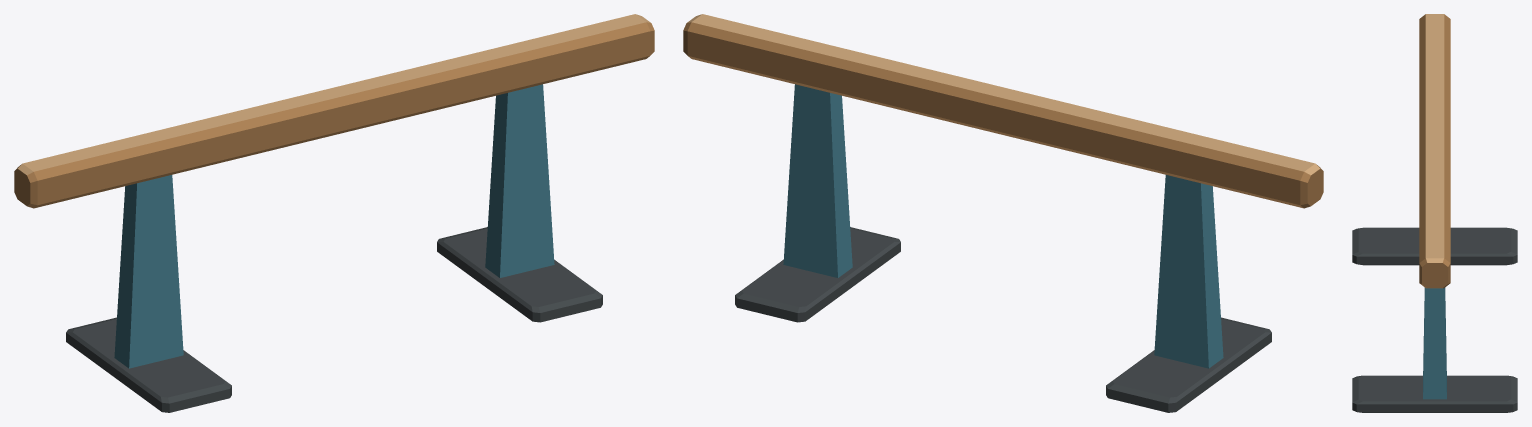
The picture shows the model from 3 angles, left to right: view 1: azimuth 30°, elevation 25°; view 2: azimuth 150°, elevation 25°; view 3: azimuth 270°, elevation 25°; orthographic projection. The views are drawn at different scales.
Parts seen in each view (by area): view 1: ContinuousOctagonalChamferEndedBeam, RightTaperedSupportColumn, LeftTaperedSupportColumn, LeftTransverseChamferFoot, RightTransverseChamferFoot; view 2: ContinuousOctagonalChamferEndedBeam, RightTaperedSupportColumn, LeftTaperedSupportColumn, LeftTransverseChamferFoot, RightTransverseChamferFoot; view 3: ContinuousOctagonalChamferEndedBeam, RightTransverseChamferFoot, LeftTransverseChamferFoot, RightTaperedSupportColumn.
Boxes of the visible parts, x1=… form: ContinuousOctagonalChamferEndedBeam: x1=14, y1=14, x2=654, y2=208; RightTaperedSupportColumn: x1=485, y1=84, x2=554, y2=277; LeftTaperedSupportColumn: x1=114, y1=175, x2=183, y2=368; LeftTransverseChamferFoot: x1=66, y1=317, x2=231, y2=412; RightTransverseChamferFoot: x1=437, y1=227, x2=602, y2=322; ContinuousOctagonalChamferEndedBeam: x1=683, y1=14, x2=1323, y2=208; RightTaperedSupportColumn: x1=783, y1=84, x2=852, y2=277; LeftTaperedSupportColumn: x1=1154, y1=175, x2=1223, y2=368; LeftTransverseChamferFoot: x1=1106, y1=317, x2=1271, y2=412; RightTransverseChamferFoot: x1=735, y1=227, x2=900, y2=322; ContinuousOctagonalChamferEndedBeam: x1=1419, y1=14, x2=1450, y2=288; RightTransverseChamferFoot: x1=1352, y1=375, x2=1517, y2=412; LeftTransverseChamferFoot: x1=1352, y1=227, x2=1517, y2=265; RightTaperedSupportColumn: x1=1423, y1=287, x2=1446, y2=399.
Size of the model in its own units: 3.2 by 1.14 by 0.9.
